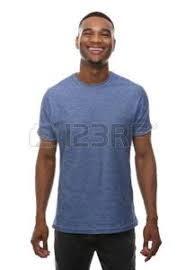person: (60, 12, 144, 121)
